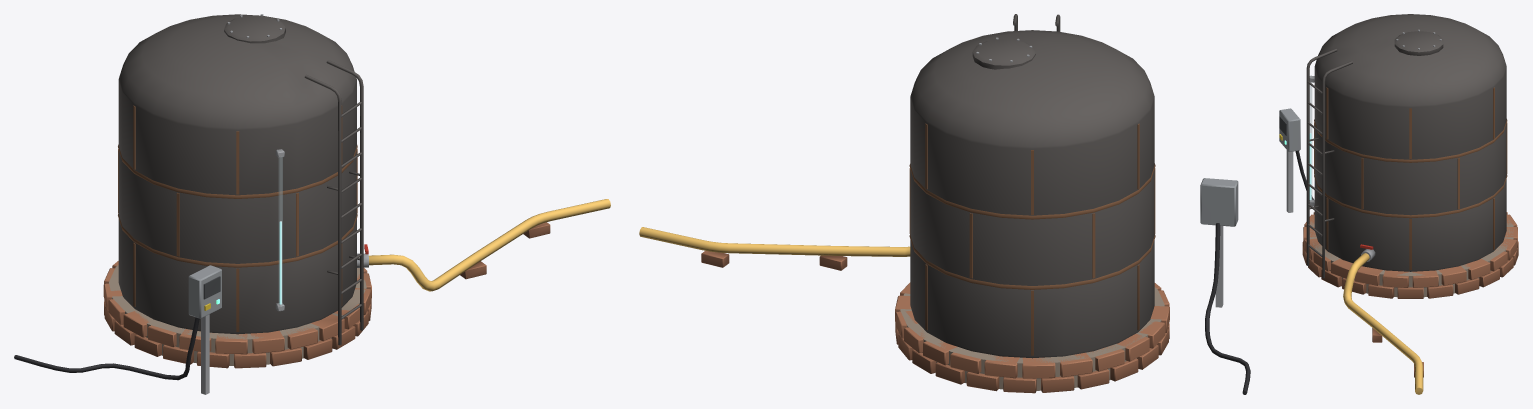
File: bs_tank.glb
3 renders of one model, left to right at view 1: azimuth 30°, elevation 25°; view 2: azimuth 150°, elevation 25°; view 3: azimuth 270°, elevation 25°, orthographic. The views are drawn at different scales.
Parts seen in each view (by area): view 1: bs_tank_mesh; view 2: bs_tank_mesh; view 3: bs_tank_mesh.
Boxes of the visible parts, x1,y1,x2,y2 form: bs_tank_mesh: [14, 14, 610, 394]; bs_tank_mesh: [639, 14, 1250, 394]; bs_tank_mesh: [1279, 14, 1518, 394].
Bounding box in the file's own units: 6.62 × 2.97 × 2.88.
